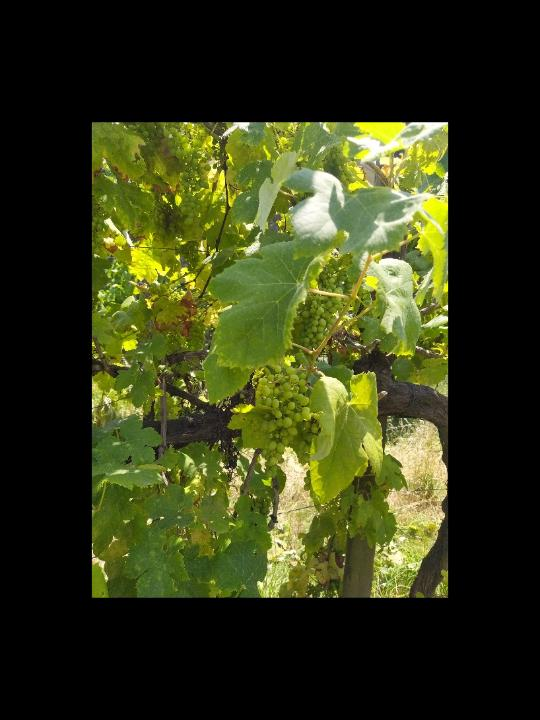grape: (255, 363, 312, 481), (294, 256, 355, 356)
